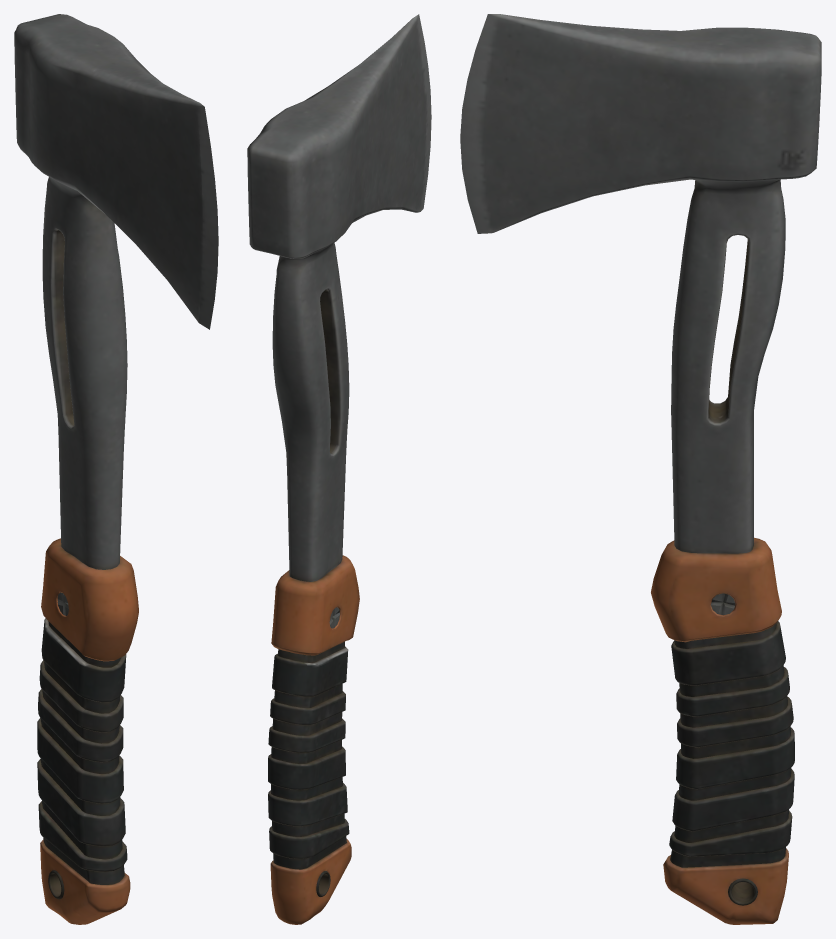
File: hatchet.38e17dd34a.glb
3 renders of one model, left to right at view 1: azimuth 30°, elevation 25°; view 2: azimuth 150°, elevation 25°; view 3: azimuth 270°, elevation 25°, orthographic. The views are drawn at different scales.
Parts seen in each view (by area): view 1: hatchet; view 2: hatchet; view 3: hatchet.
Part boxes in pixels (x1,y1,x2,y2): hatchet: (14,14,218,924); hatchet: (247,14,431,924); hatchet: (460,14,821,924).
Bounding box in the file's own units: 0.026 × 0.2887 × 0.1043.
1 material, 1 textured.
